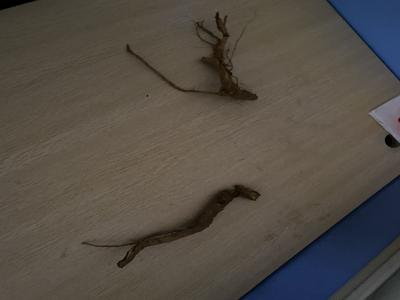Root: (126, 12, 258, 101), (119, 185, 260, 267)
